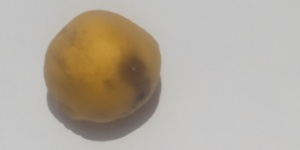BAD: (46, 8, 161, 127)
